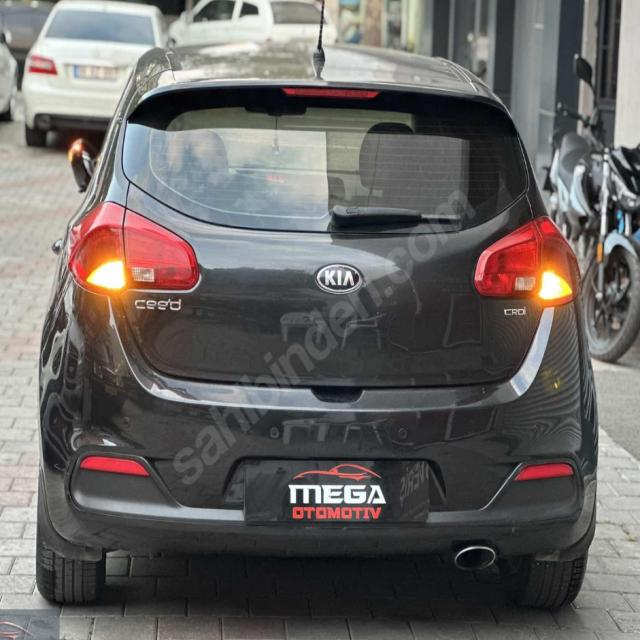kia: (312, 261, 367, 299)
